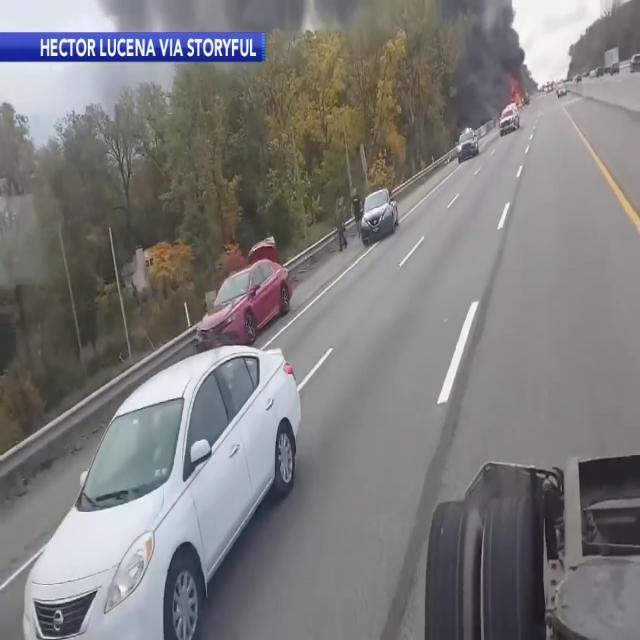Fire: (134, 234, 192, 289), (500, 78, 528, 122)
Smoke: (438, 0, 530, 96)
